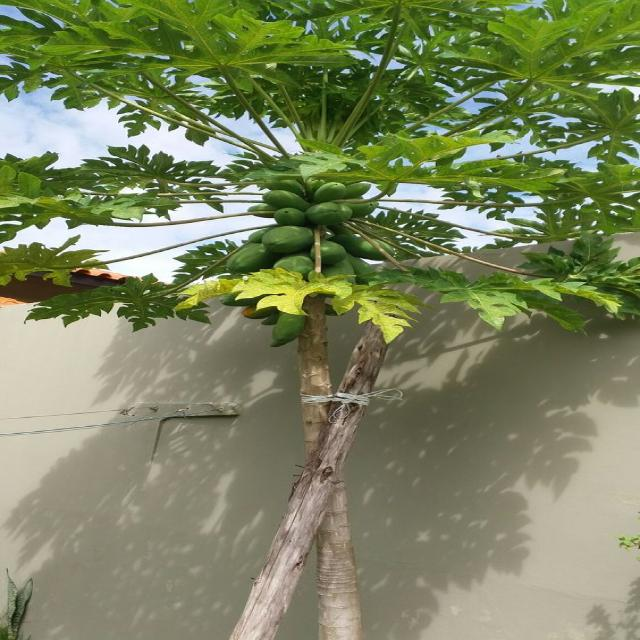Papaya-Tree: (3, 6, 640, 458)
